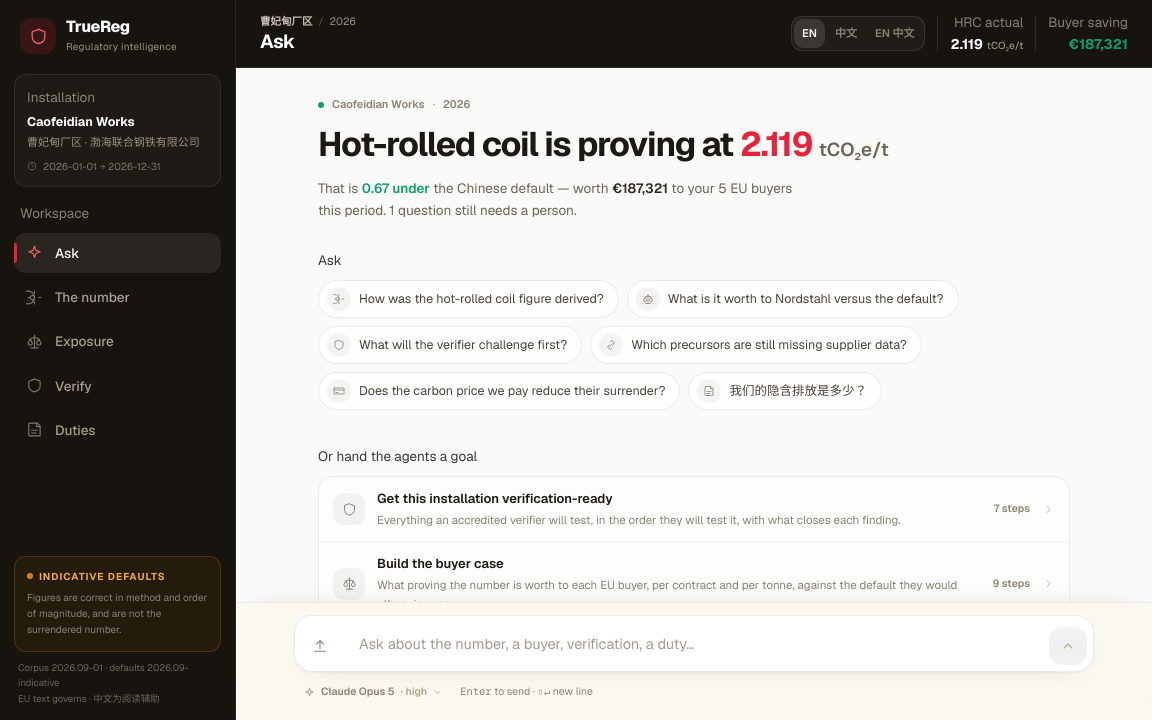
Test: the TrueReg workspace › answers a question asked in Chinese
The width and height of the screenshot is (1152, 720).
Type "我们的隐含排放是多少？" into the text box named "Ask the agents" at (694, 644), box x1=347 y1=622 x2=1041 y2=665
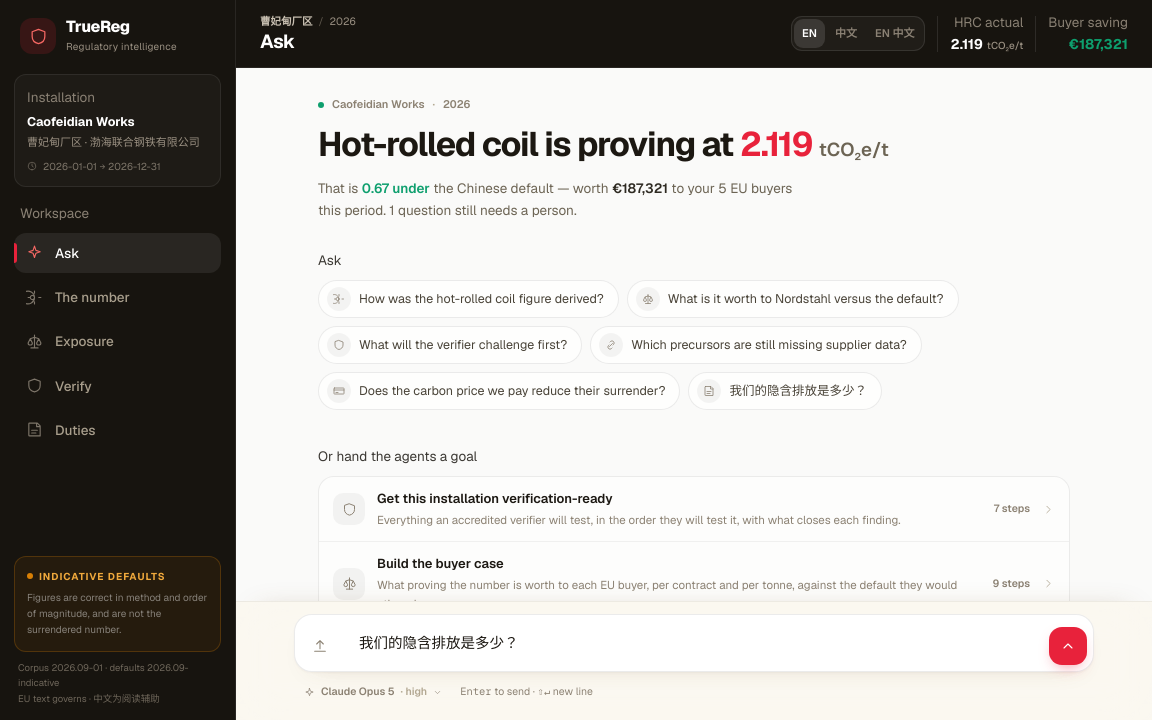
Press Enter in the text box named "Ask the agents", box x1=347 y1=621 x2=1041 y2=665
(page scrolled)
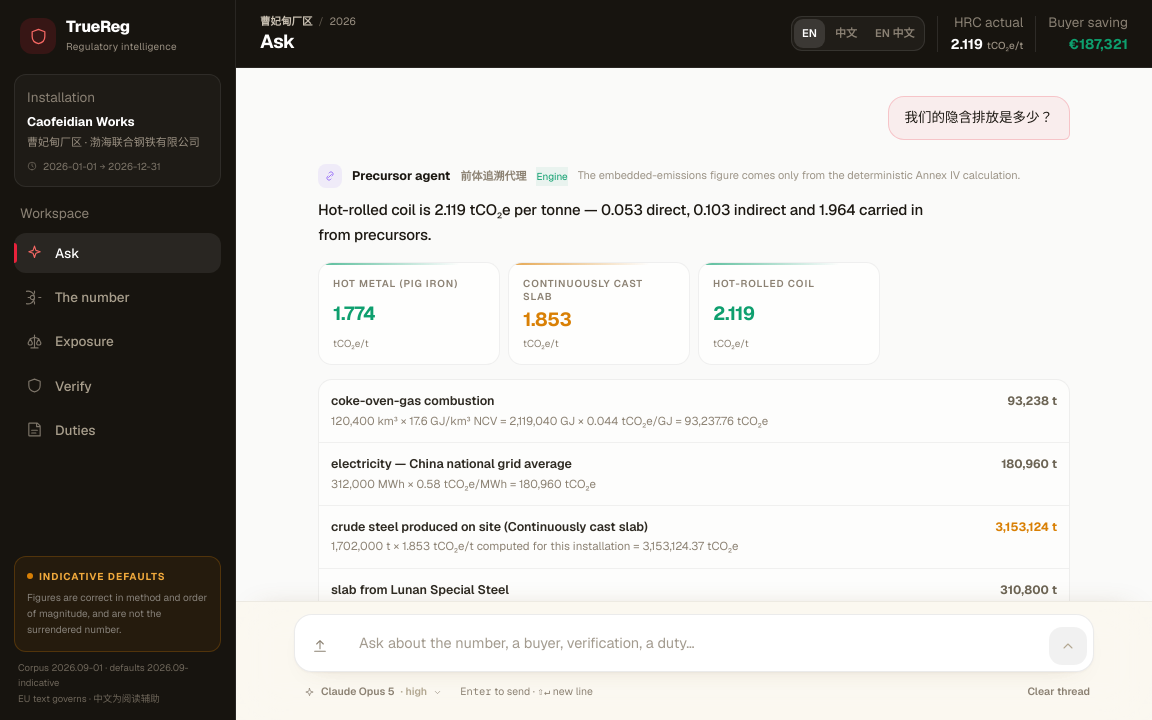
Now the text "tCO₂e per tonne" is shown, box x1=318 y1=200 x2=927 y2=244
